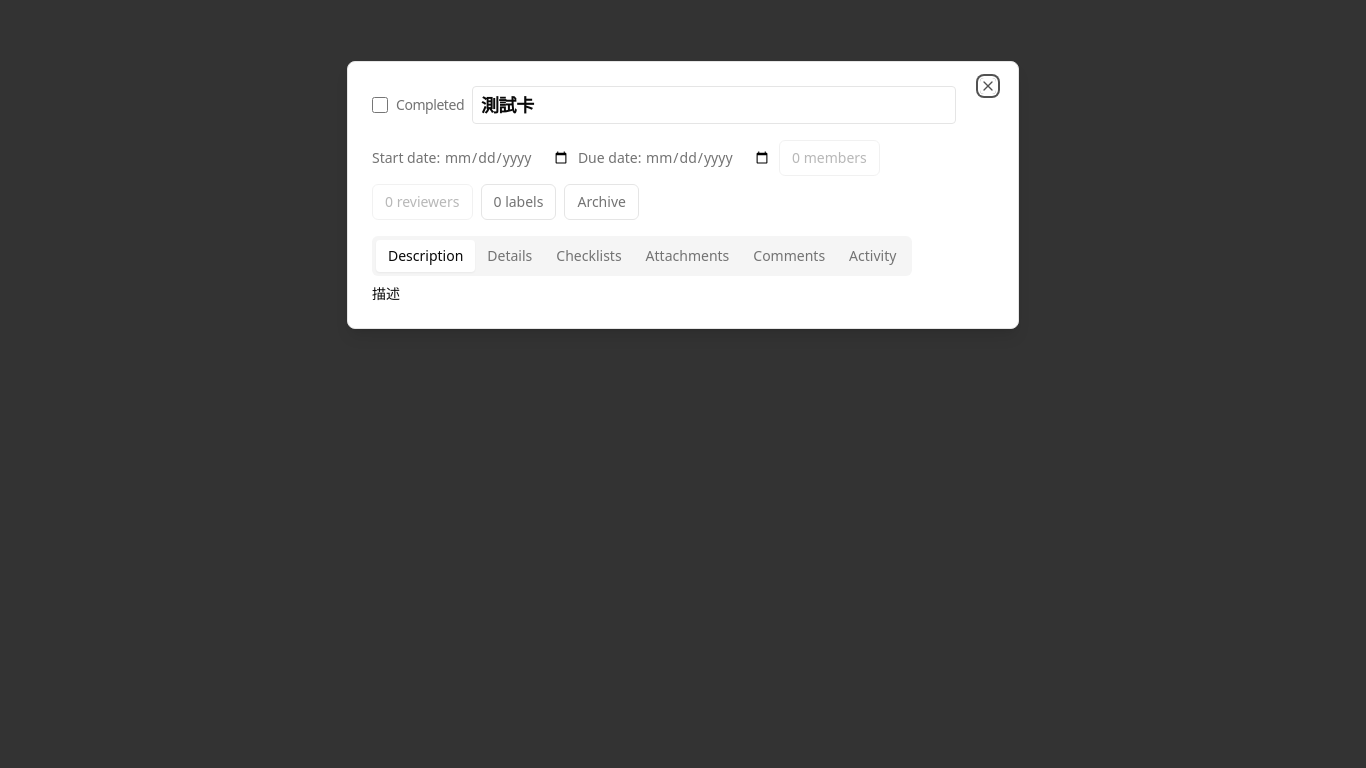
Scenario: 活動牆的審查細節 › en 之下立場走標籤，不是原始識別碼
expect the field showing "測試卡" is shown: met, box [472,86,956,124]
Press the mouse on the tab "Activity" at (873, 256), box [837,240,908,272]
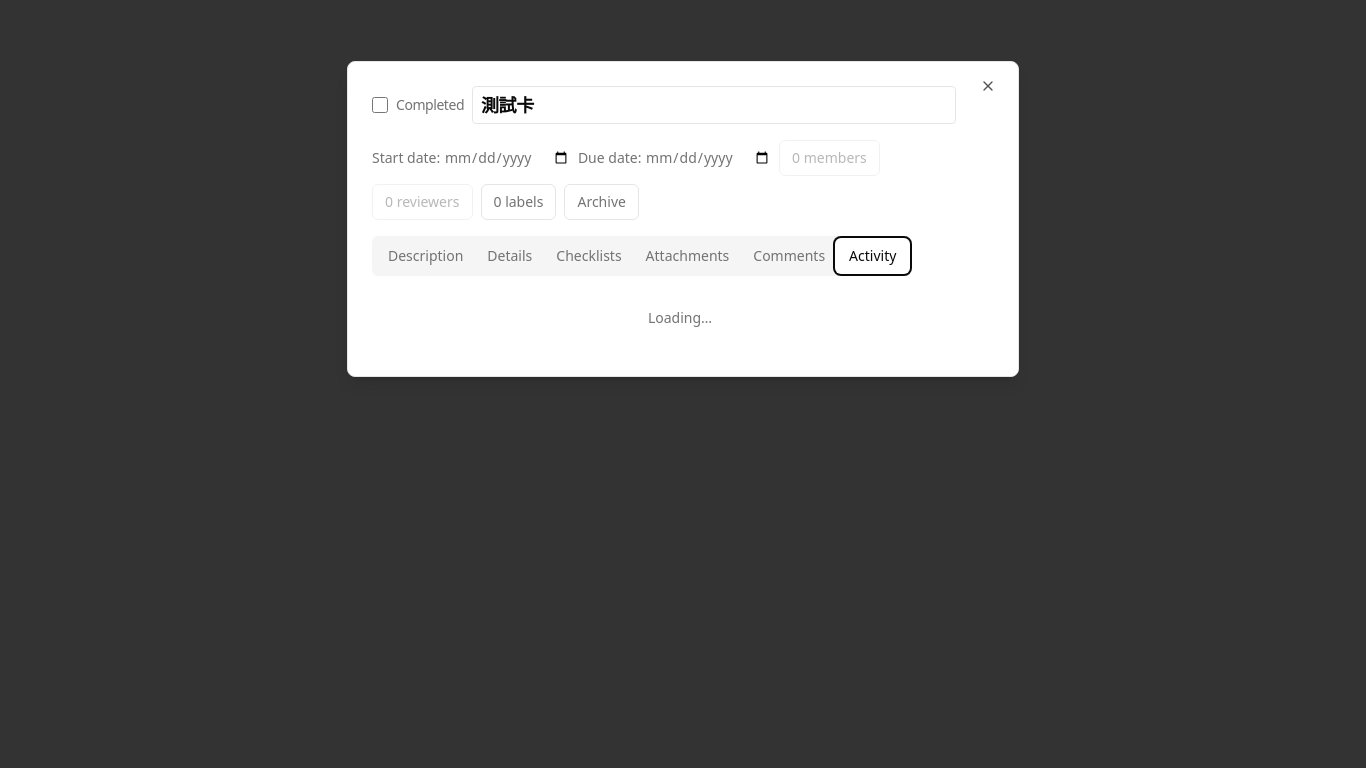
Click the tab "Activity".
click(873, 256)  # box [837,240,908,272]
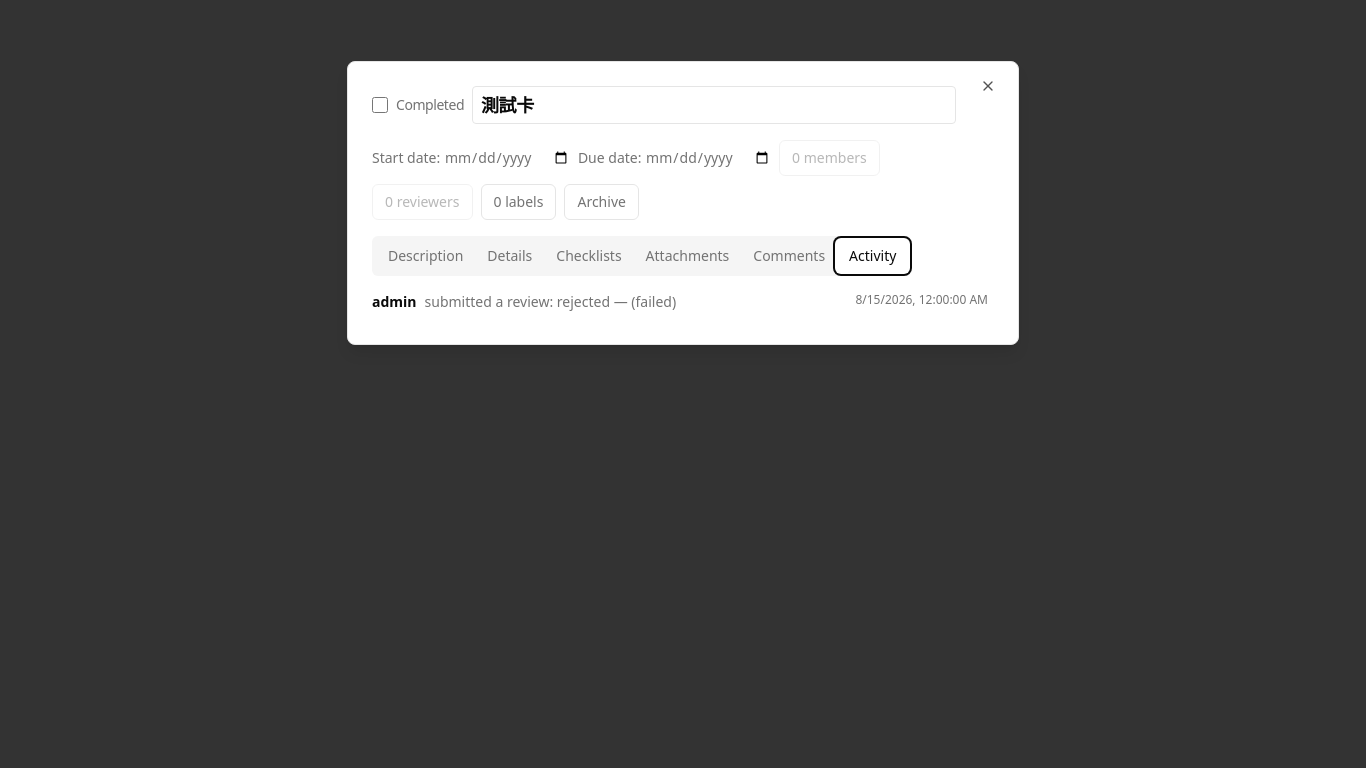
expect the text "submitted a review: rejected — (failed)" is shown: met, box [424,292,676,312]
